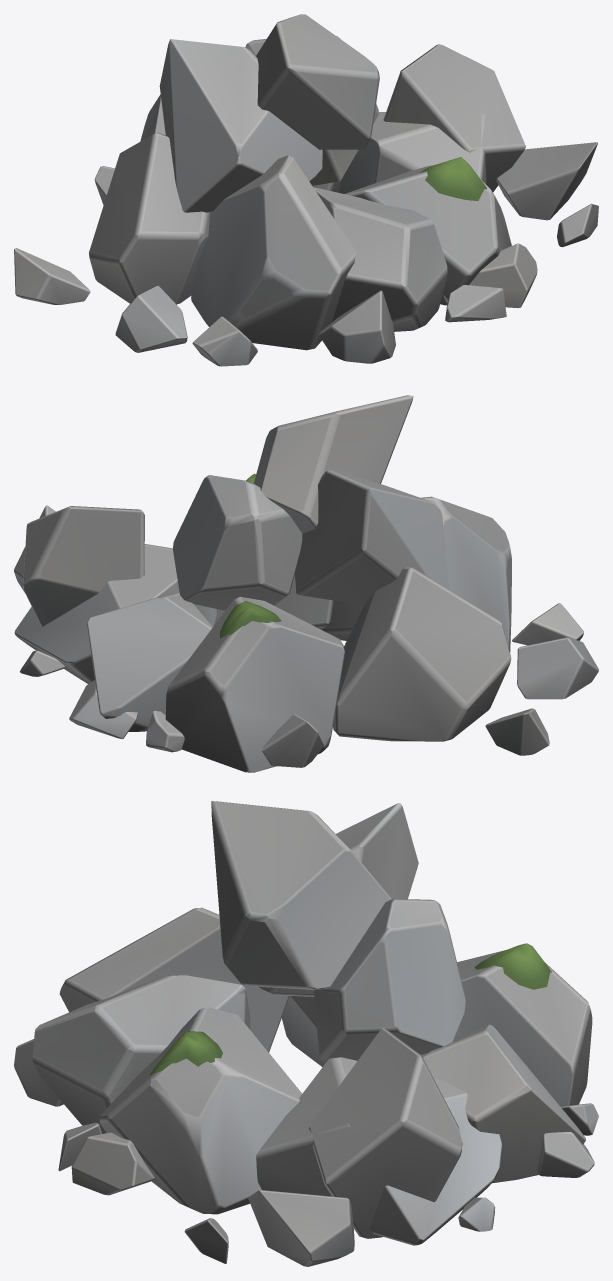
The model's file is rubble_heap.glb.
3 views of the same model, one above another, from view 1: azimuth 30°, elevation 25°; view 2: azimuth 150°, elevation 25°; view 3: azimuth 270°, elevation 25° (orthographic). The views are drawn at different scales.
Parts seen in each view (by area): view 1: rubble_heap_LOD0; view 2: rubble_heap_LOD0; view 3: rubble_heap_LOD0.
Boxes of the visible parts, bbox=[...] form: rubble_heap_LOD0: bbox=[14, 14, 598, 366]; rubble_heap_LOD0: bbox=[14, 395, 598, 772]; rubble_heap_LOD0: bbox=[14, 801, 598, 1266].
Size of what is drawn, in the model's own units: 4.83 by 2.14 by 3.85.
